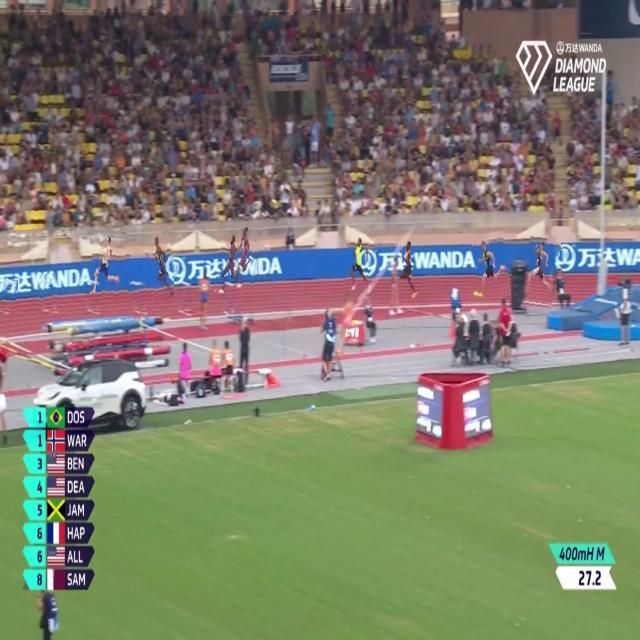athlete: (522, 234, 560, 312), (88, 229, 125, 301), (472, 231, 509, 301), (345, 229, 376, 300), (148, 230, 178, 302), (400, 231, 424, 305), (236, 224, 262, 292), (216, 230, 241, 294)
hurdle: (216, 278, 243, 322), (128, 274, 150, 321), (37, 273, 58, 317), (85, 276, 102, 320), (175, 276, 191, 318), (0, 278, 16, 319)
